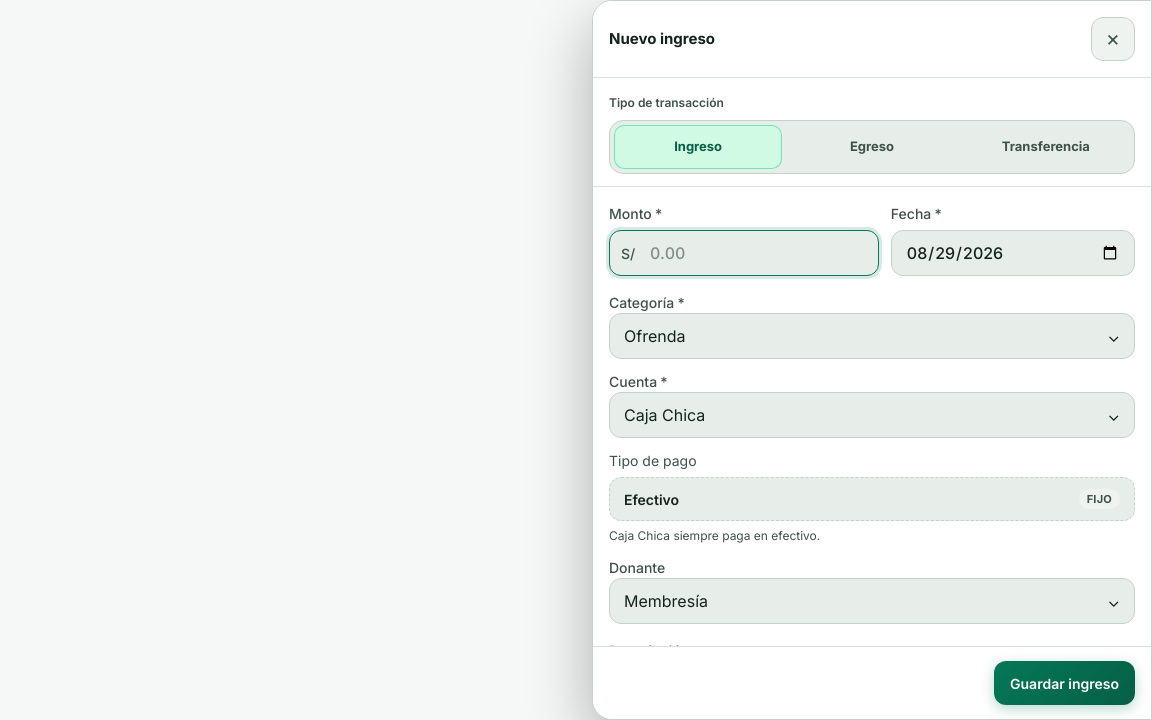
TransactionEditorSheet — defaults e interacción › autocompleta el donante con Membresía al elegir una categoría de ofrenda
The image size is (1152, 720).
# Cambiamos a Diezmos y limpiamos el donante.
What coordinates should you click on to do the following:
click the button named "Categoría"
I would click on:
 (655, 336)
Its box is [609,313,1135,359].
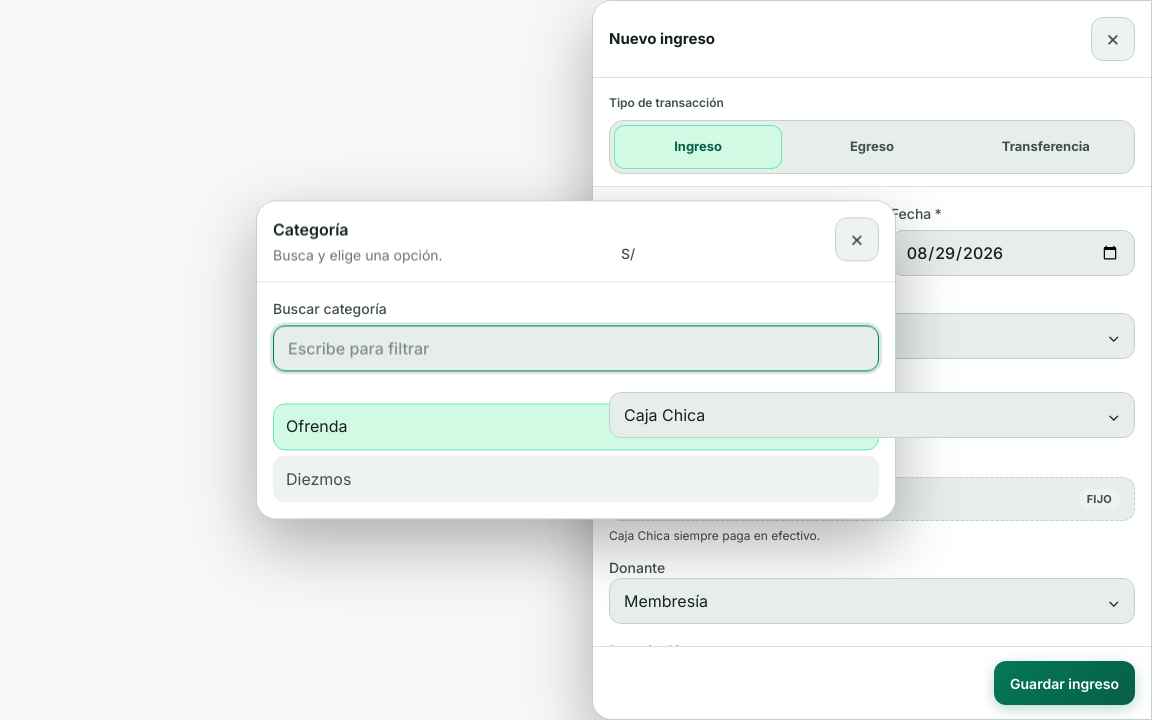
What coordinates should you click on to do the following:
click the button "Diezmos"
I would click on:
 (319, 479)
Its box is [273,456,879,503].
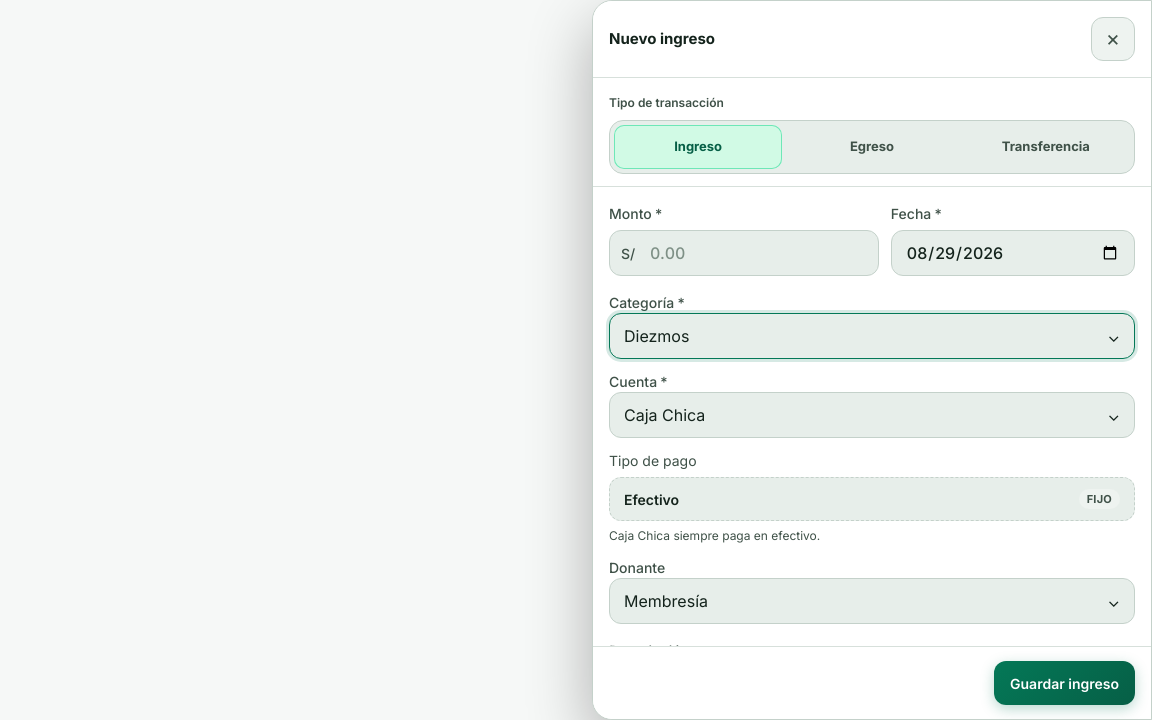
What coordinates should you click on to do the following:
click the button named "Donante"
I would click on:
 (666, 601)
Its box is [609,578,1135,624].
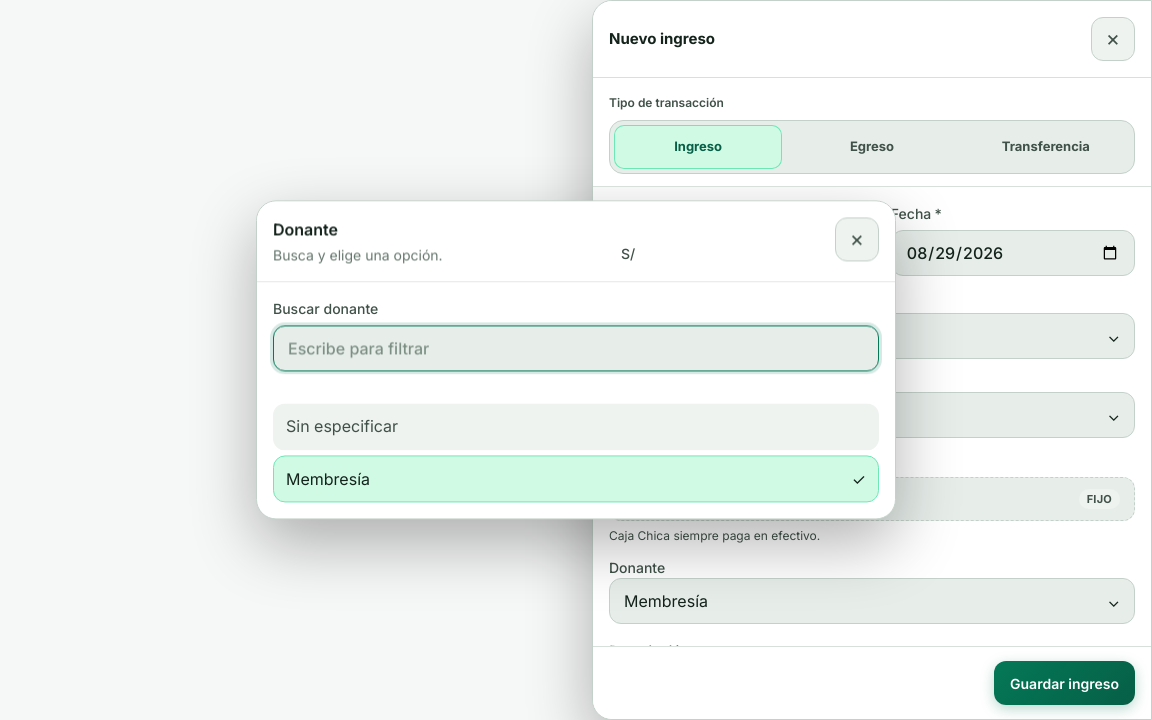
What coordinates should you click on to do the following:
click the button "Sin especificar"
I would click on:
 (342, 427)
Its box is [273,403,879,450].
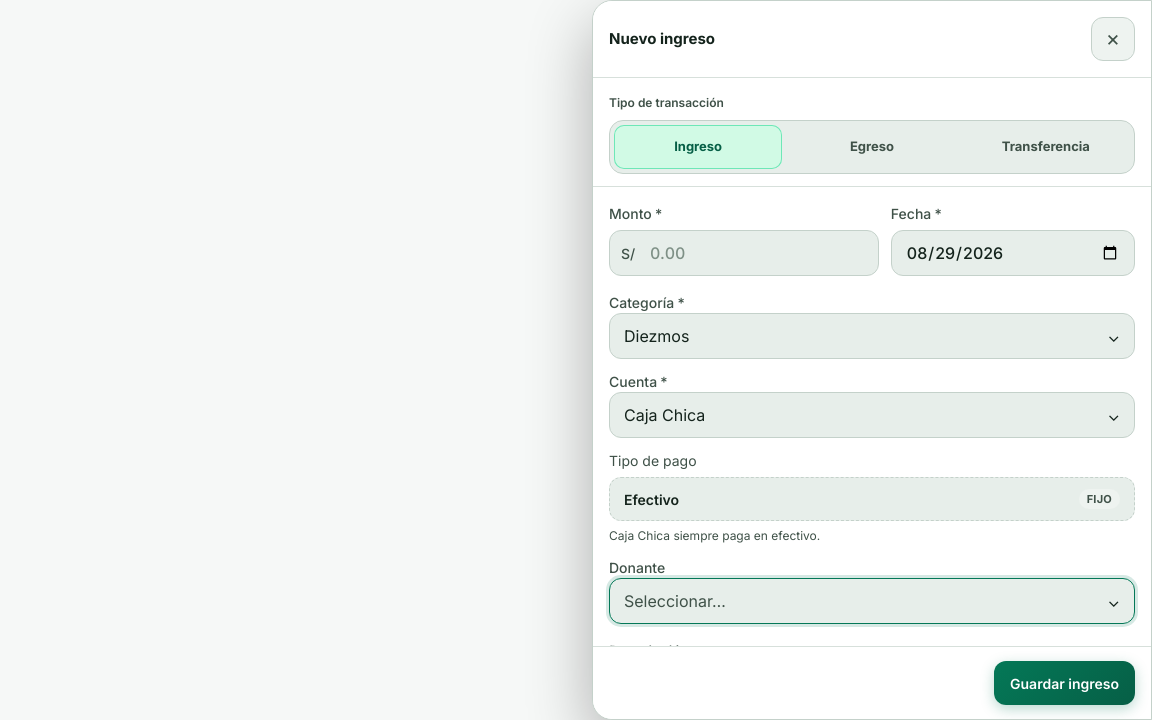
Check: the button named "Donante" shows "Seleccionar", box [609,578,1135,624]
What coordinates should you click on to do the following:
click the button named "Categoría"
I would click on:
 (657, 336)
Its box is [609,313,1135,359].
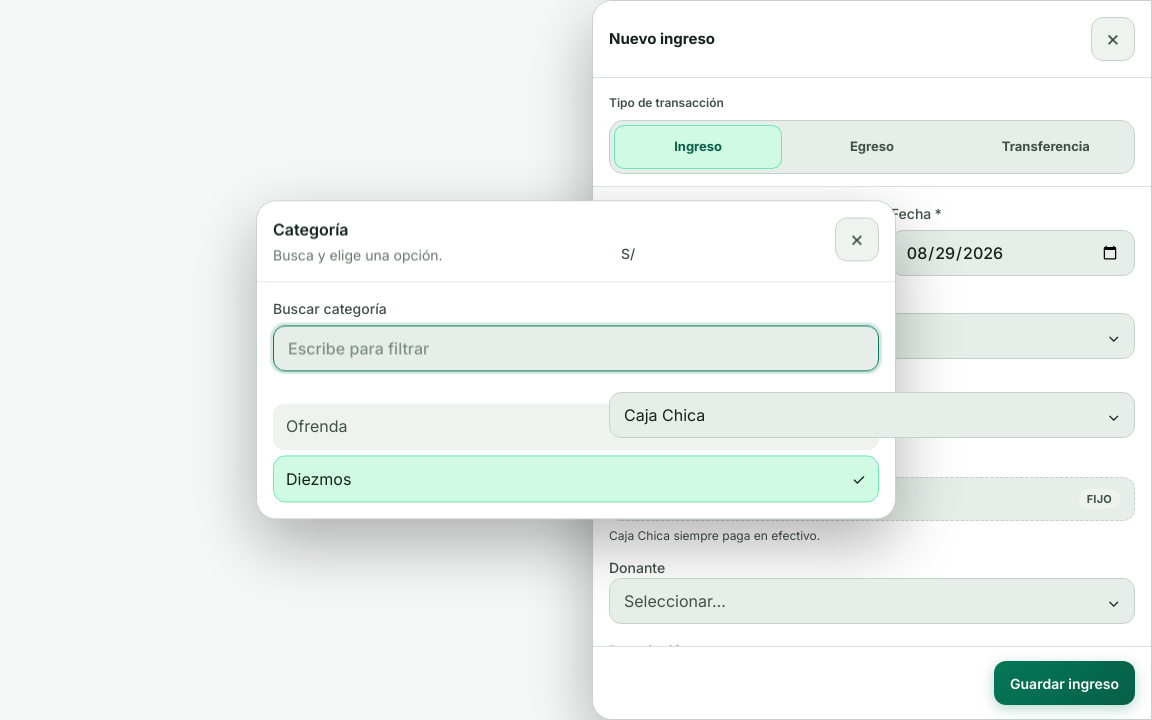
What coordinates should you click on to do the following:
click the button "Ofrenda"
I would click on:
 (317, 427)
Its box is [273,403,879,450].
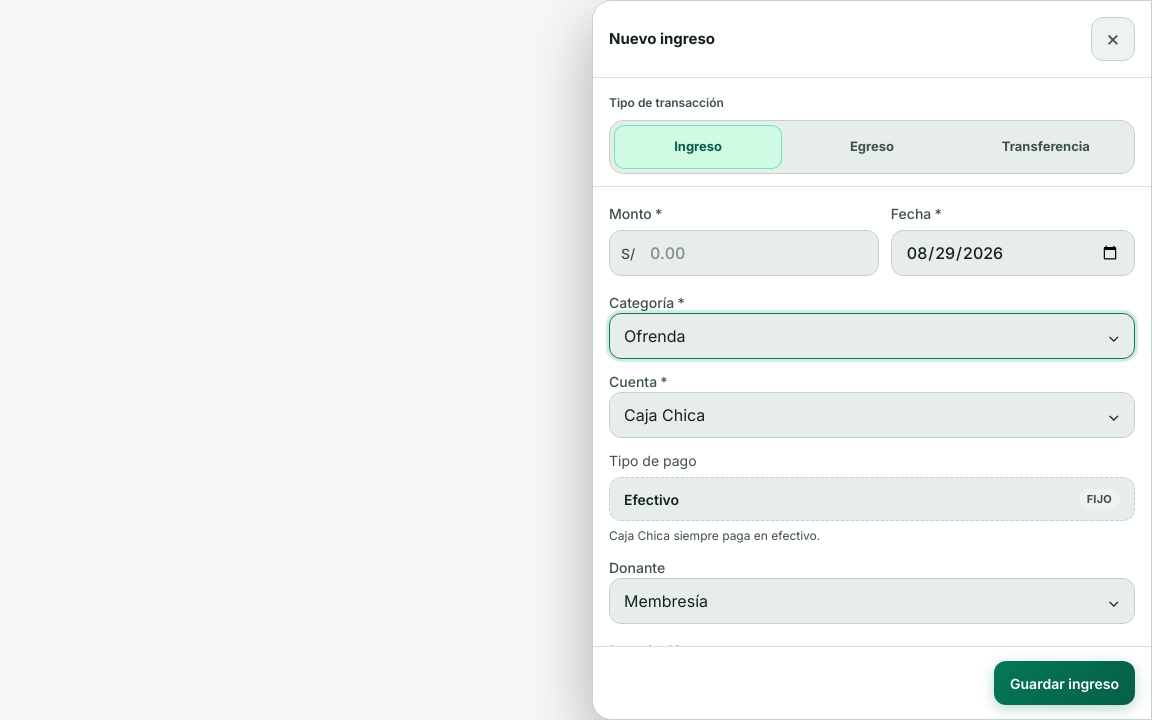
Check: the button named "Donante" shows "Membresía", box [609,578,1135,624]
